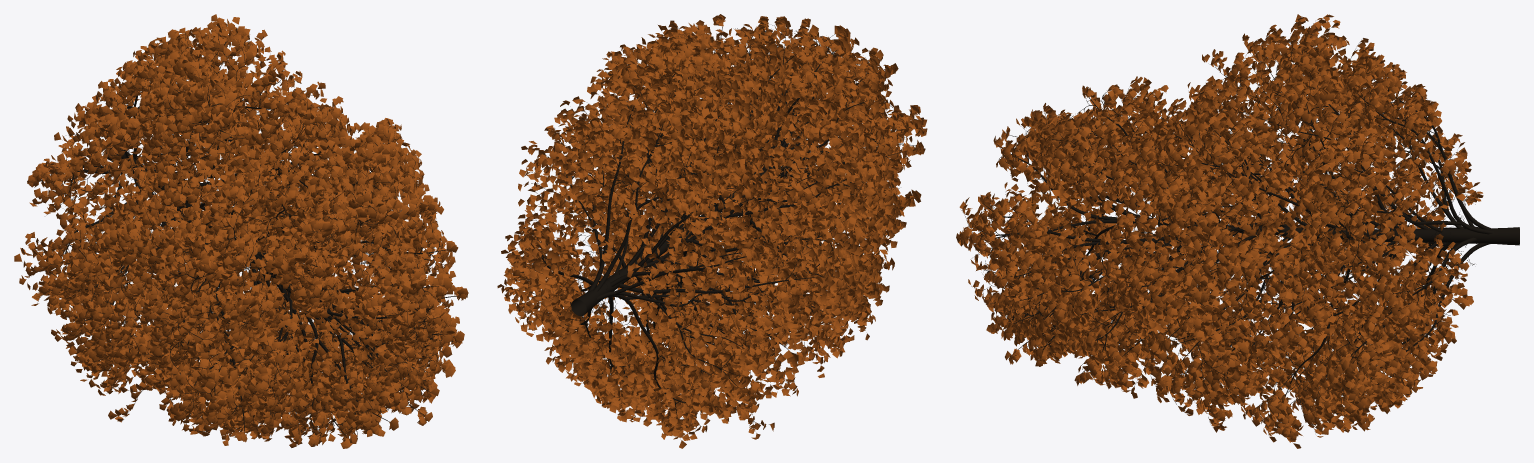
File: tree1.fbx
3 views of the same model, side by side, from view 1: azimuth 30°, elevation 25°; view 2: azimuth 150°, elevation 25°; view 3: azimuth 270°, elevation 25° (orthographic).
Visible parts, largest first — view 1: tree1; view 2: tree1; view 3: tree1.
Boxes of the visible parts, left/top/right/bottom form: tree1: left=14, top=14, right=468, bottom=448; tree1: left=497, top=14, right=927, bottom=448; tree1: left=956, top=14, right=1519, bottom=448.
Size of the model in its own units: 24.05 by 25.88 by 32.3.
